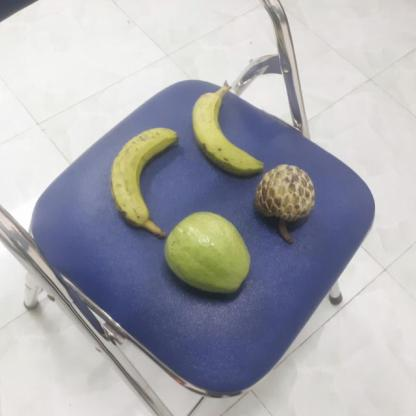annona: (252, 164, 315, 238)
banana: (103, 128, 181, 231), (188, 86, 261, 172)
guava: (160, 213, 248, 295)
